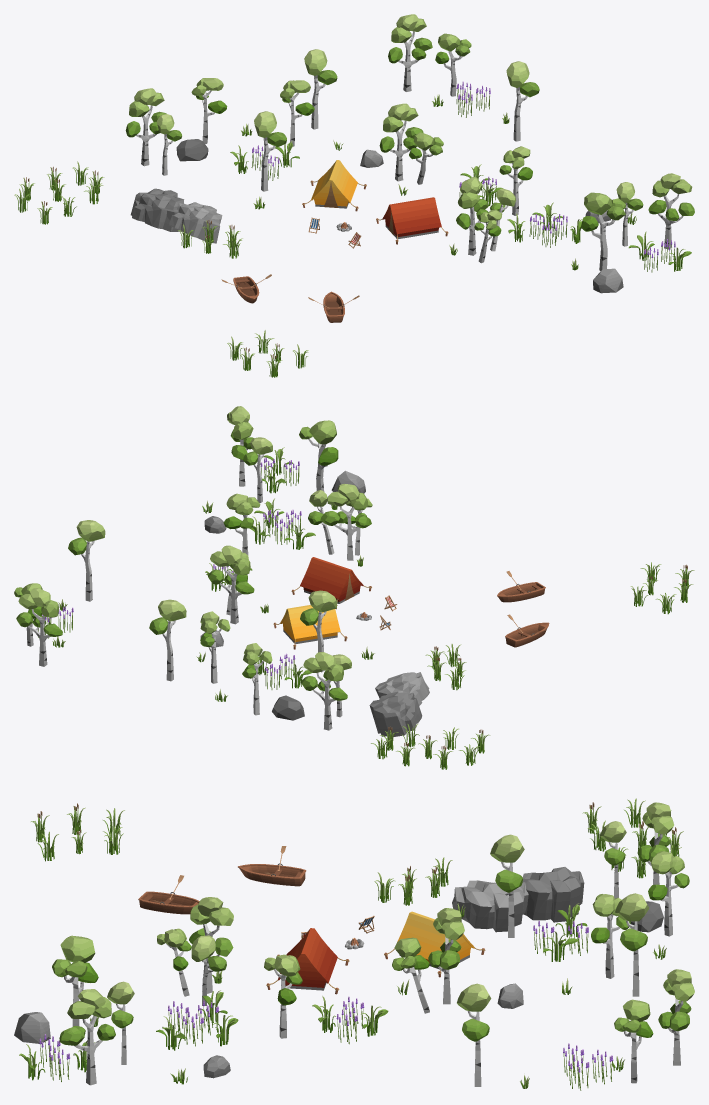
The model's file is field_02.glb.
3 renders of one model, top to bottom at view 1: azimuth 30°, elevation 25°; view 2: azimuth 150°, elevation 25°; view 3: azimuth 270°, elevation 25°, orthographic. The views are drawn at different scales.
Parts seen in each view (by area): view 1: camping tent red_67, birch tree 4_65, camping tent yellow_78, stone large 2_12, birch tree 4 (4)_80, birch tree 4 (2)_76, birch tree (2)_74, birch tree 4 (1)_75, stone large_16, birch tree 4 (3)_72, birch tree 2_64, birch tree 2 (2)_70 (+12 smaller); view 2: camping tent red_67, stone large 2_12, birch tree 4 (2)_76, birch tree 4 (1)_75, birch tree 4_65, birch tree 4 (3)_72, camping tent yellow_78, birch tree (2)_74, birch tree 2_64, birch tree 2 (1)_73, birch tree 4 (4)_80, stone large_16 (+9 smaller); view 3: stone large_16, stone large 2_12, birch tree 4 (4)_80, camping tent red_67, birch tree (2)_74, birch tree 4_65, birch tree 4 (2)_76, birch tree 4 (3)_72, camping tent yellow_78, birch tree 2_64, birch tree 2 (1)_73, birch tree 2 (2)_70 (+16 smaller).
Part boxes in pixels (left/top/right/bottom): camping tent red_67: left=376, top=197, right=448, bottom=244; birch tree 4_65: left=388, top=14, right=432, bottom=91; camping tent yellow_78: left=302, top=160, right=366, bottom=211; stone large 2_12: left=130, top=188, right=184, bottom=231; birch tree 4 (4)_80: left=648, top=173, right=694, bottom=249; birch tree 4 (2)_76: left=379, top=103, right=423, bottom=181; birch tree (2)_74: left=581, top=192, right=625, bottom=270; birch tree 4 (1)_75: left=125, top=88, right=166, bottom=166; stone large_16: left=169, top=202, right=222, bottom=243; birch tree 4 (3)_72: left=456, top=177, right=488, bottom=255; birch tree 2_64: left=506, top=61, right=539, bottom=141; birch tree 2 (2)_70: left=254, top=111, right=286, bottom=191; camping tent red_67: left=291, top=557, right=371, bottom=609; stone large 2_12: left=369, top=692, right=422, bottom=736; birch tree 4 (2)_76: left=208, top=545, right=254, bottom=624; birch tree 4 (1)_75: left=301, top=652, right=347, bottom=730; birch tree 4_65: left=16, top=588, right=62, bottom=666; birch tree 4 (3)_72: left=320, top=483, right=371, bottom=560; camping tent yellow_78: left=273, top=605, right=347, bottom=649; birch tree (2)_74: left=299, top=420, right=338, bottom=491; birch tree 2_64: left=68, top=520, right=105, bottom=601; birch tree 2 (1)_73: left=149, top=599, right=186, bottom=681; birch tree 4 (4)_80: left=227, top=406, right=253, bottom=486; stone large_16: left=375, top=672, right=429, bottom=706; stone large_16: left=452, top=880, right=528, bottom=932; stone large 2_12: left=522, top=867, right=584, bottom=922; birch tree 4 (4)_80: left=59, top=989, right=115, bottom=1085; camping tent red_67: left=266, top=928, right=349, bottom=994; birch tree (2)_74: left=52, top=935, right=98, bottom=1026; birch tree 4_65: left=658, top=969, right=694, bottom=1065; birch tree 4 (2)_76: left=428, top=908, right=464, bottom=1004; birch tree 4 (3)_72: left=189, top=897, right=233, bottom=993; camping tent yellow_78: left=384, top=911, right=485, bottom=977; birch tree 2_64: left=457, top=983, right=491, bottom=1086; birch tree 2 (1)_73: left=615, top=893, right=649, bottom=996; birch tree 2 (2)_70: left=490, top=834, right=524, bottom=937.
Bounding box in the file's own units: 19.77 × 4.37 × 19.64.
1 material, 1 textured.
